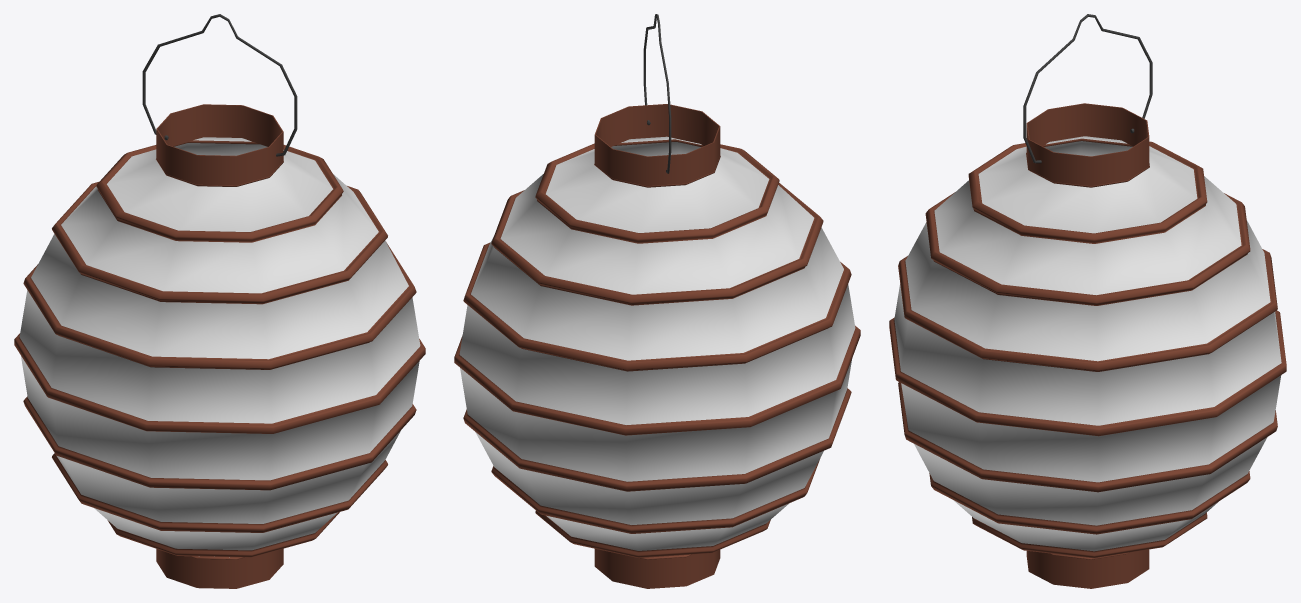
Rendered from StreetLampNoString.fbx.
3 views of the same model, side by side, from view 1: azimuth 30°, elevation 25°; view 2: azimuth 150°, elevation 25°; view 3: azimuth 270°, elevation 25° (orthographic).
Visible parts, largest first — view 1: body.002; view 2: body.002; view 3: body.002.
Part boxes in pixels (x1,y1,x2,y2): body.002: [14, 14, 425, 588]; body.002: [454, 14, 860, 588]; body.002: [889, 14, 1286, 588].
Bounding box in the file's own units: 36.28 × 53.39 × 35.09.
